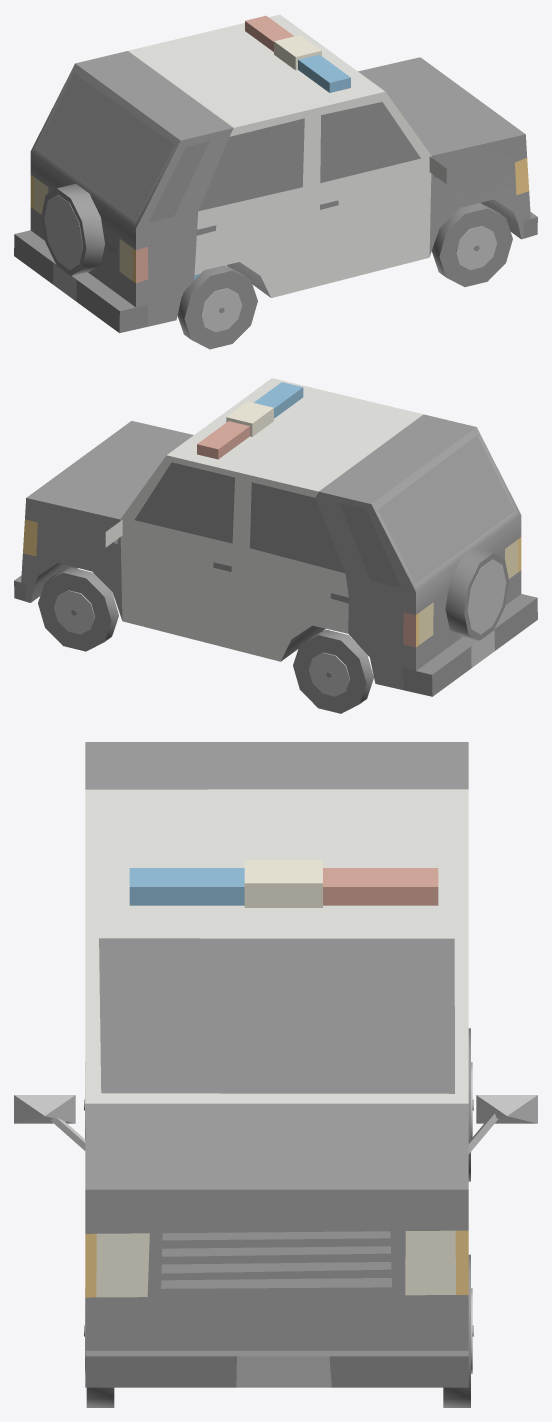
The model's file is kar_l_5.fbx.
The picture shows the model from 3 angles, top to bottom: view 1: azimuth 30°, elevation 25°; view 2: azimuth 150°, elevation 25°; view 3: azimuth 270°, elevation 25°; orthographic projection. The views are drawn at different scales.
Parts seen in each view (by area): view 1: Cube_1, Cylinder_6, Cylinder_9; view 2: Cube_1, Cylinder_7, Cylinder_8; view 3: Cube_1, Cylinder_7.
Boxes of the visible parts, x1,y1,x2,y2 form: Cube_1: (14,14,537,333); Cylinder_6: (432,203,512,286); Cylinder_9: (177,265,257,349); Cube_1: (14,378,537,696); Cylinder_7: (38,567,118,651); Cylinder_8: (293,629,373,713); Cube_1: (14,742,537,1387); Cylinder_7: (443,1254,473,1407).
Bounding box in the file's own units: 437 × 227 × 259.
